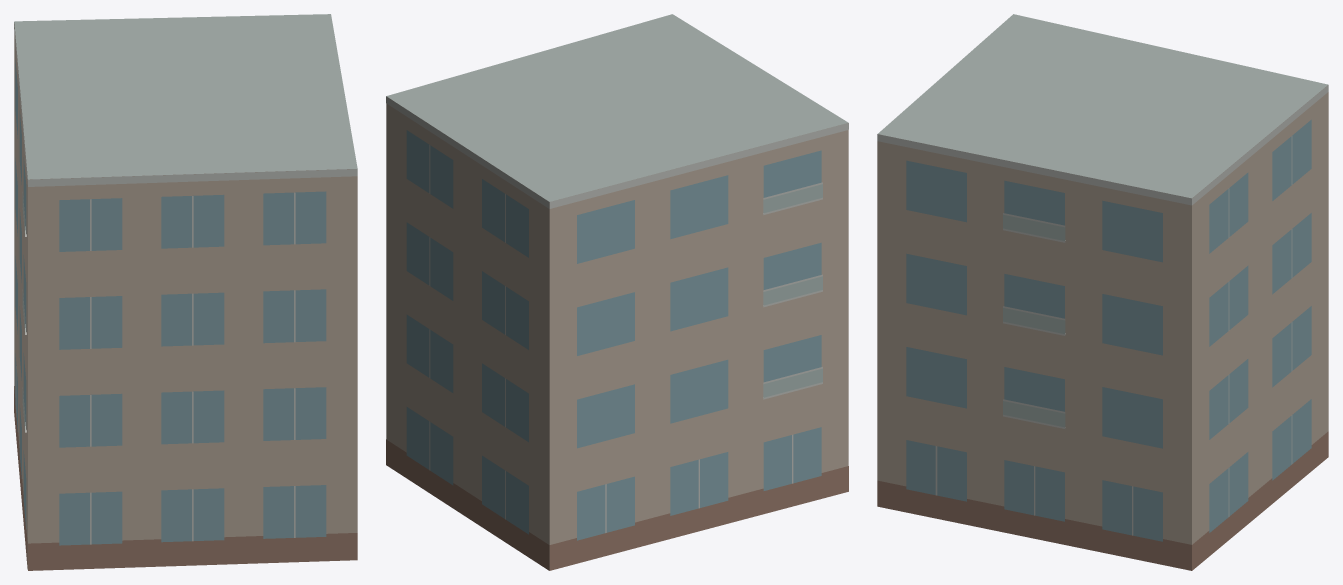
Rendered from survey-upis-32727860.glb.
3 views of the same model, side by side, from view 1: azimuth 30°, elevation 25°; view 2: azimuth 150°, elevation 25°; view 3: azimuth 270°, elevation 25° (orthographic). The views are drawn at different scales.
Parts seen in each view (by area): view 1: survey-upis-32727860.tmp; view 2: survey-upis-32727860.tmp; view 3: survey-upis-32727860.tmp.
Part boxes in pixels (x1=…): survey-upis-32727860.tmp: x1=14, y1=14, x2=357, y2=570; survey-upis-32727860.tmp: x1=386, y1=14, x2=848, y2=570; survey-upis-32727860.tmp: x1=877, y1=14, x2=1328, y2=570.
Size of the model in its own units: 13.49 by 12.7 by 13.95.
